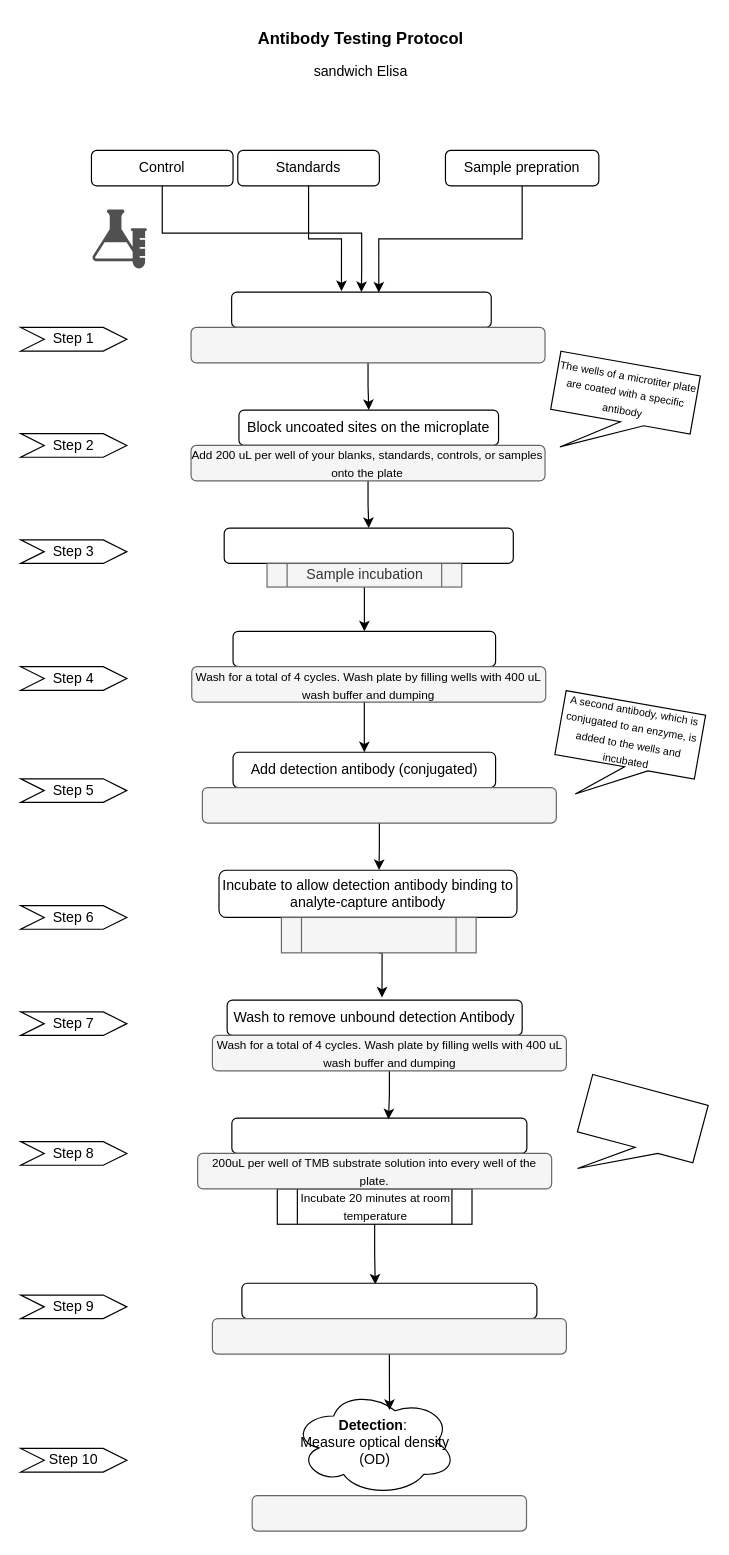
The diagram is 729 pixels wide and 1555 high, and some of its shapes have lost their labels. The centre of each missing label's shape, as x and y in pixels:
"Add 200uL per well of PoAb-HRP conjugate solution into every well of the plate." belongs at pixel 378 804.
"Add 50 uL per well 2N HCl stop solution" belongs at pixel 388 1335.
"Add 50 uL per well of assay diluent into every well of the plate" belongs at pixel 367 344.
"Add patient sample (containing analyse)" belongs at pixel 368 545.
"Coat microplate with capture antibody" belongs at pixel 360 309.
"Incubate 2 hours at room temperature" belongs at pixel 378 934.
"Microplate Reader at 450nm" belongs at pixel 389 1512.
"Stop reaction with stop solution" belongs at pixel 389 1300.
"Substrate addition" belongs at pixel 379 1135.
"substrate reaction and colour development takes place" belongs at pixel 637 1135.
"Wash to remove unbound components" belongs at pixel 364 648.
